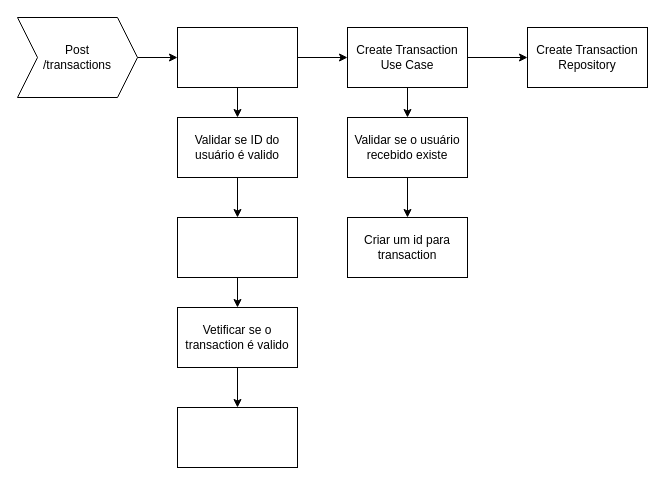
Some shapes in this 665 by 485 pixel diagram are drawn without their labels. The shapes that lost their labels are listed below. From the top down, each one's centre as x and y in pixels, then its label:
At pixel 237 57: "Create Transaction Controller".
At pixel 237 247: "Validar se o amount é maior que 0 e verificar se tem duas casas decimais".
At pixel 237 437: "Validar campos obrigatórios id, userId, name, date, amount, type".
